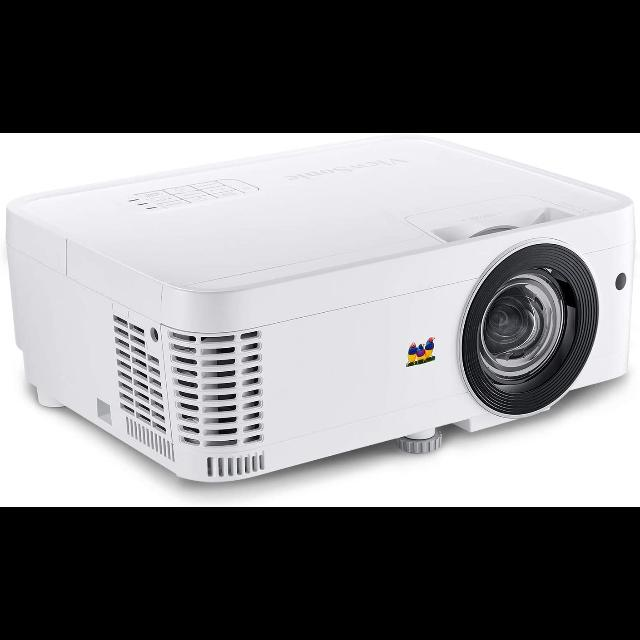Projector: (1, 136, 634, 487)
